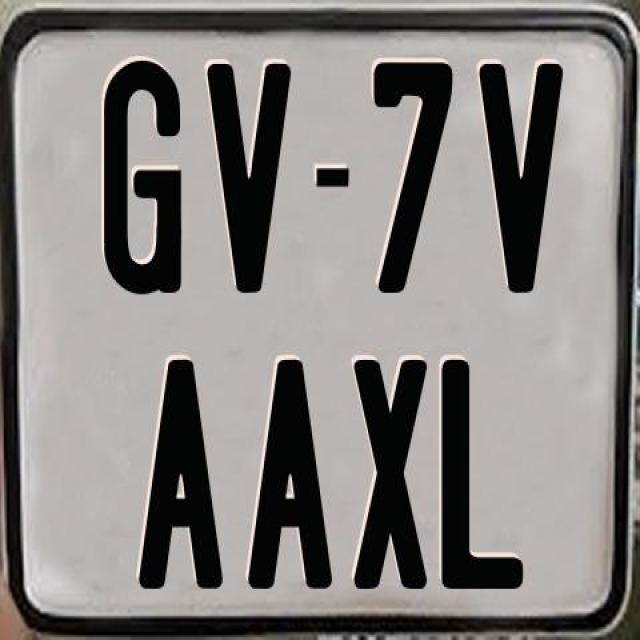7: (372, 61, 452, 296)
A: (246, 358, 338, 592), (135, 357, 224, 586)
G: (102, 59, 186, 298)
L: (442, 358, 530, 594)
V: (206, 59, 294, 294), (474, 63, 558, 300)
X: (350, 358, 426, 588)
